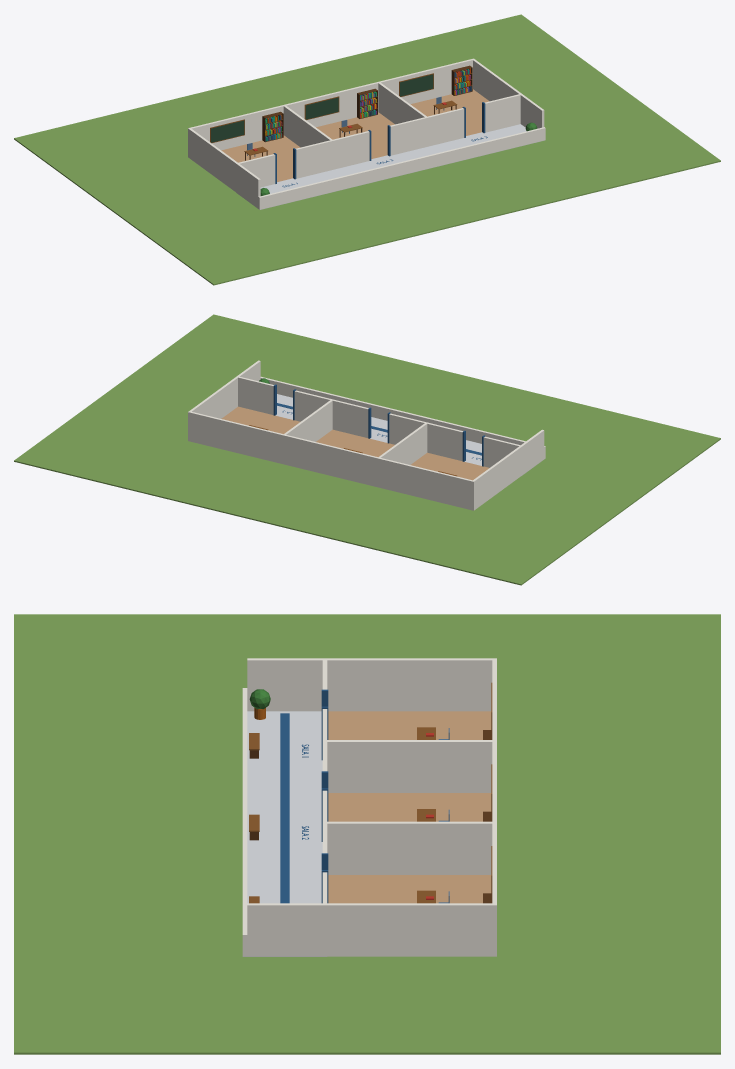
File: faculdade.glb
3 views of the same model, one above another, from view 1: azimuth 30°, elevation 25°; view 2: azimuth 150°, elevation 25°; view 3: azimuth 270°, elevation 25° (orthographic). The views are drawn at different scales.
Parts seen in each view (by area): view 1: Gramado, Parede_Norte, Parede_Sul, Piso_Corredor, Parede_Corredor_3, Parede_Corredor_2, Parede_Oeste, Parede_Leste, Piso_Sala_2, Piso_Sala_3, Piso_Sala_1, Parede_Corredor_4 (+9 smaller); view 2: Gramado, Parede_Norte, Parede_Oeste, Parede_Sul, Parede_Corredor_3, Parede_Corredor_2, Parede_Leste, Parede_Corredor_4, Parede_Entre_Salas_1, Piso_Sala_1, Piso_Sala_2, Piso_Sala_3 (+3 smaller); view 3: Gramado, Parede_Leste, Parede_Oeste, Piso_Corredor, Parede_Entre_Salas_2, Parede_Entre_Salas_1, Piso_Sala_1, Piso_Sala_2, Piso_Sala_3, Faixa_Corredor, Parede_Sul, Parede_Norte.
Part boxes in pixels (x1=…): Gramado: x1=14, y1=14, x2=720, y2=285; Parede_Norte: x1=188, y1=58, x2=474, y2=157; Parede_Sul: x1=258, y1=127, x2=545, y2=209; Piso_Corredor: x1=237, y1=124, x2=544, y2=209; Parede_Corredor_3: x1=390, y1=108, x2=464, y2=155; Parede_Corredor_2: x1=295, y1=131, x2=369, y2=178; Parede_Oeste: x1=189, y1=128, x2=260, y2=208; Parede_Leste: x1=473, y1=59, x2=544, y2=128; Piso_Sala_2: x1=316, y1=112, x2=394, y2=158; Piso_Sala_3: x1=410, y1=89, x2=489, y2=135; Piso_Sala_1: x1=221, y1=135, x2=300, y2=181; Parede_Corredor_4: x1=485, y1=94, x2=520, y2=132; Gramado: x1=14, y1=314, x2=720, y2=585; Parede_Norte: x1=188, y1=411, x2=475, y2=510; Parede_Oeste: x1=473, y1=429, x2=544, y2=509; Parede_Sul: x1=260, y1=376, x2=545, y2=458; Parede_Corredor_3: x1=294, y1=390, x2=368, y2=437; Parede_Corredor_2: x1=389, y1=413, x2=462, y2=461; Parede_Leste: x1=189, y1=360, x2=260, y2=418; Parede_Corredor_4: x1=238, y1=376, x2=273, y2=414; Parede_Entre_Salas_1: x1=378, y1=423, x2=427, y2=464; Piso_Sala_1: x1=411, y1=452, x2=489, y2=480; Piso_Sala_2: x1=316, y1=429, x2=394, y2=456; Piso_Sala_3: x1=221, y1=406, x2=300, y2=433; Gramado: x1=14, y1=614, x2=720, y2=1054; Parede_Leste: x1=247, y1=903, x2=492, y2=956; Parede_Oeste: x1=247, y1=658, x2=492, y2=711; Piso_Corredor: x1=243, y1=711, x2=326, y2=956; Parede_Entre_Salas_2: x1=327, y1=821, x2=492, y2=874; Parede_Entre_Salas_1: x1=327, y1=740, x2=492, y2=792; Piso_Sala_1: x1=328, y1=711, x2=491, y2=739; Piso_Sala_2: x1=328, y1=793, x2=491, y2=821; Piso_Sala_3: x1=328, y1=875, x2=491, y2=903; Faixa_Corredor: x1=280, y1=713, x2=289, y2=903; Parede_Sul: x1=242, y1=688, x2=247, y2=956; Parede_Norte: x1=492, y1=658, x2=496, y2=956.
Bounding box in the file's own units: 44 × 2.58 × 30.
